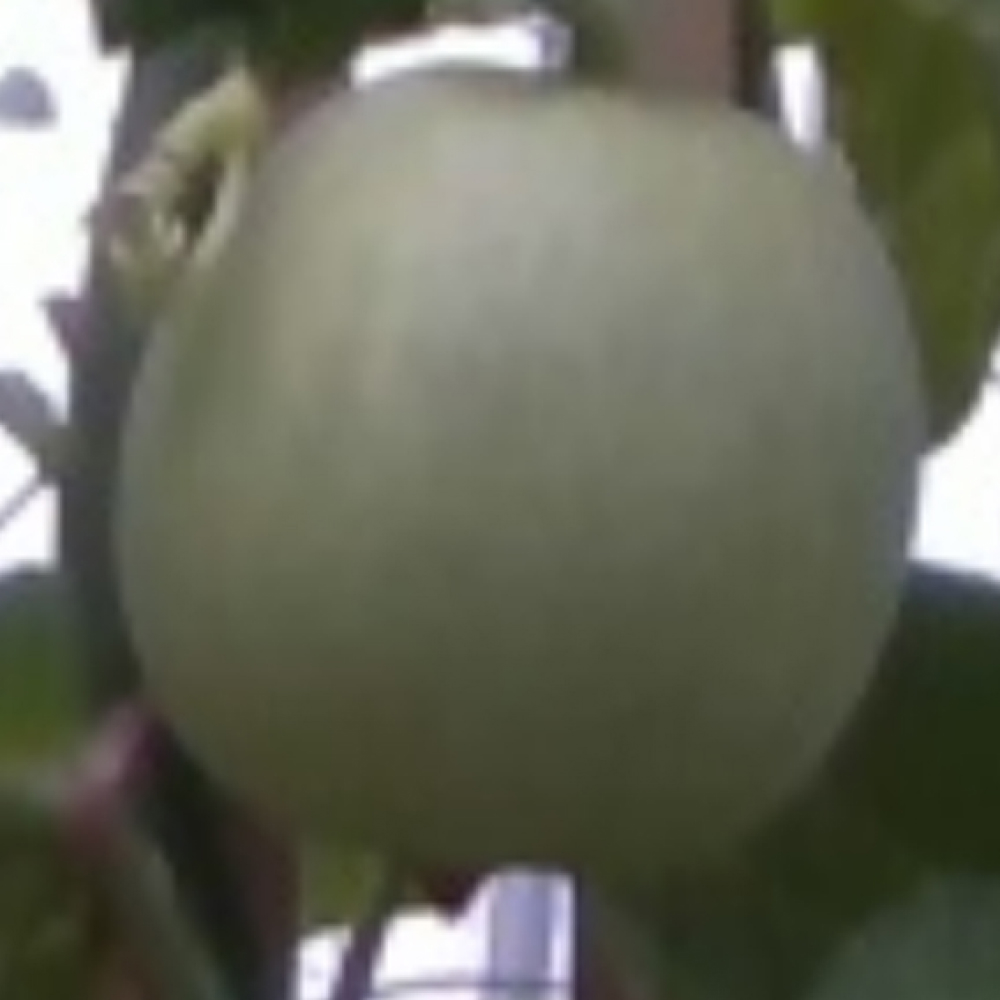melon: (108, 63, 929, 880)
